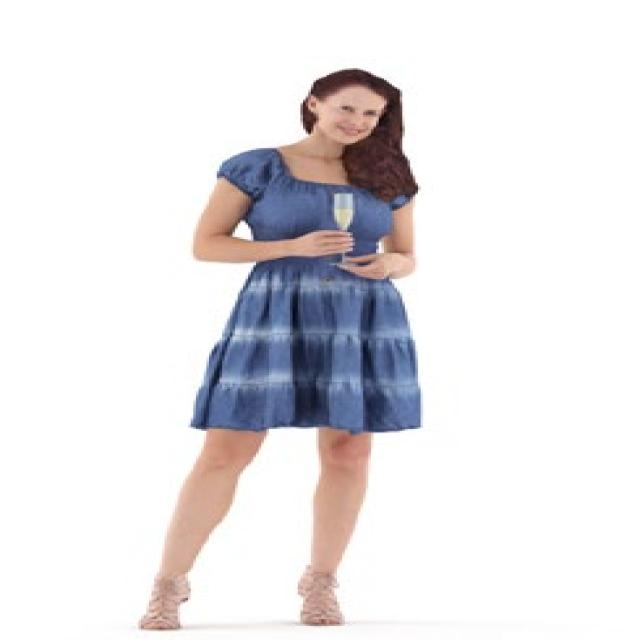standing: (126, 67, 440, 636)
